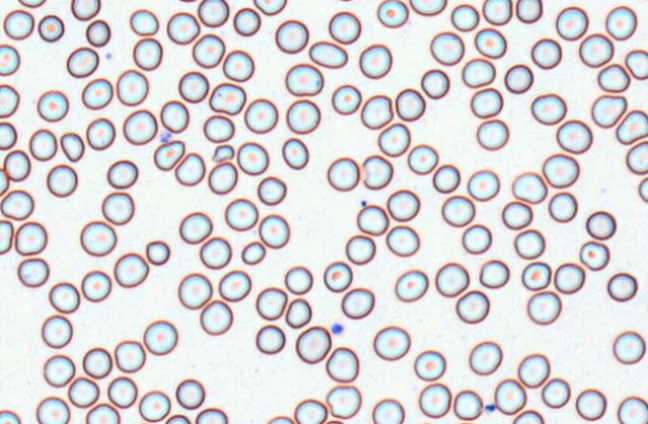PLT: (329, 321, 344, 336)
RBC: (295, 325, 331, 364), (80, 220, 117, 256), (373, 325, 410, 360), (177, 272, 212, 309), (542, 153, 579, 188), (122, 108, 157, 145), (284, 63, 323, 96), (325, 384, 361, 419), (434, 261, 469, 297), (113, 252, 149, 287), (285, 98, 320, 134), (143, 319, 178, 355), (526, 290, 561, 325), (243, 98, 278, 133), (199, 299, 233, 335), (325, 346, 359, 382), (578, 33, 614, 67), (358, 43, 392, 79), (590, 94, 626, 128), (556, 119, 592, 153), (208, 82, 245, 115), (191, 33, 225, 68), (429, 31, 464, 65), (468, 340, 502, 375), (418, 382, 451, 418), (116, 69, 148, 106), (274, 19, 308, 53), (455, 289, 489, 323), (612, 330, 646, 364), (224, 197, 258, 231), (615, 109, 648, 144), (326, 156, 359, 191), (360, 94, 393, 129), (517, 353, 550, 388), (511, 171, 547, 203), (494, 378, 526, 414), (530, 93, 566, 125), (377, 122, 410, 156), (328, 10, 361, 44), (166, 11, 200, 44), (394, 269, 428, 302), (14, 221, 47, 255), (555, 6, 588, 40), (236, 141, 269, 175), (101, 191, 134, 225), (361, 154, 393, 189), (605, 5, 637, 40), (258, 213, 290, 248), (308, 40, 347, 68), (42, 354, 75, 387), (36, 89, 69, 122), (441, 194, 475, 226), (385, 224, 419, 256), (386, 189, 420, 221), (255, 286, 287, 320), (178, 211, 212, 243), (41, 314, 73, 348), (174, 151, 205, 186), (413, 349, 446, 381), (222, 49, 254, 82), (218, 269, 251, 301), (199, 236, 231, 269), (341, 287, 374, 319), (0, 189, 34, 220), (461, 57, 495, 88), (46, 163, 77, 197), (114, 339, 145, 373), (575, 388, 607, 420), (553, 262, 585, 294), (138, 390, 170, 422), (467, 169, 499, 201), (476, 118, 508, 150), (81, 77, 113, 109), (48, 281, 80, 313), (207, 161, 238, 194), (178, 70, 209, 103), (66, 46, 99, 77), (470, 87, 503, 118), (159, 99, 189, 133), (356, 204, 388, 235), (153, 139, 185, 170), (474, 27, 506, 58), (513, 228, 545, 259), (530, 37, 561, 69), (395, 88, 425, 121), (132, 37, 162, 70), (85, 117, 115, 150), (3, 9, 34, 40), (68, 376, 99, 407), (407, 143, 438, 174), (107, 376, 137, 408), (17, 257, 49, 287), (81, 270, 111, 302), (106, 159, 138, 189), (331, 83, 361, 115), (82, 346, 112, 378), (28, 128, 57, 161), (597, 63, 630, 92), (35, 396, 70, 423), (453, 389, 483, 420), (461, 223, 491, 254), (585, 210, 616, 240), (175, 378, 205, 409), (345, 234, 375, 264), (255, 324, 285, 354), (579, 240, 609, 270), (420, 68, 449, 99), (501, 200, 532, 229), (541, 377, 570, 408), (548, 191, 577, 222), (323, 261, 352, 292), (606, 272, 637, 301), (376, 0, 408, 28), (257, 175, 286, 205), (521, 261, 551, 290), (479, 259, 509, 288), (504, 63, 533, 93), (203, 114, 234, 142), (3, 149, 30, 181), (197, 0, 229, 27), (281, 137, 308, 169), (293, 398, 327, 423), (284, 265, 313, 294), (617, 395, 647, 423), (432, 163, 460, 193), (129, 8, 159, 36), (371, 398, 404, 423), (450, 3, 479, 31), (233, 7, 261, 36), (285, 297, 311, 328), (59, 131, 84, 162), (37, 14, 64, 42), (482, 0, 512, 25), (626, 140, 648, 174), (85, 402, 120, 423), (624, 49, 647, 80), (85, 19, 110, 47), (0, 83, 19, 118), (145, 239, 170, 265), (0, 43, 20, 75), (240, 240, 265, 265), (515, 0, 542, 23), (70, 0, 100, 20), (409, 0, 446, 16), (195, 407, 228, 423), (252, 0, 287, 15), (0, 121, 17, 150), (0, 219, 13, 254), (512, 409, 544, 423), (0, 409, 21, 423), (638, 176, 648, 202), (0, 167, 9, 195), (164, 414, 190, 423), (17, 0, 46, 8), (266, 415, 295, 423), (324, 419, 344, 423), (176, 0, 198, 3), (335, 0, 358, 2)
Schistocyte: (212, 144, 235, 162)
